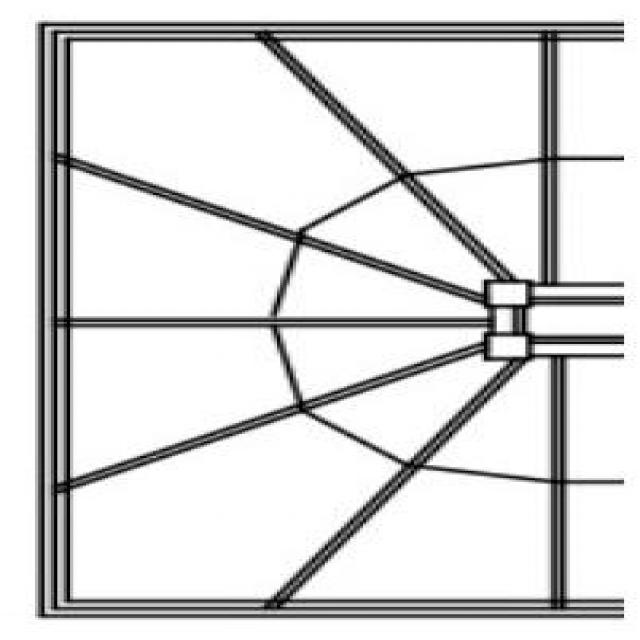stair: (32, 16, 637, 618)
